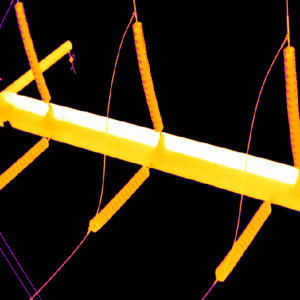insulator: (213, 201, 272, 283), (87, 165, 149, 233), (14, 0, 50, 102), (132, 19, 164, 133), (0, 137, 50, 188), (281, 43, 300, 168)
